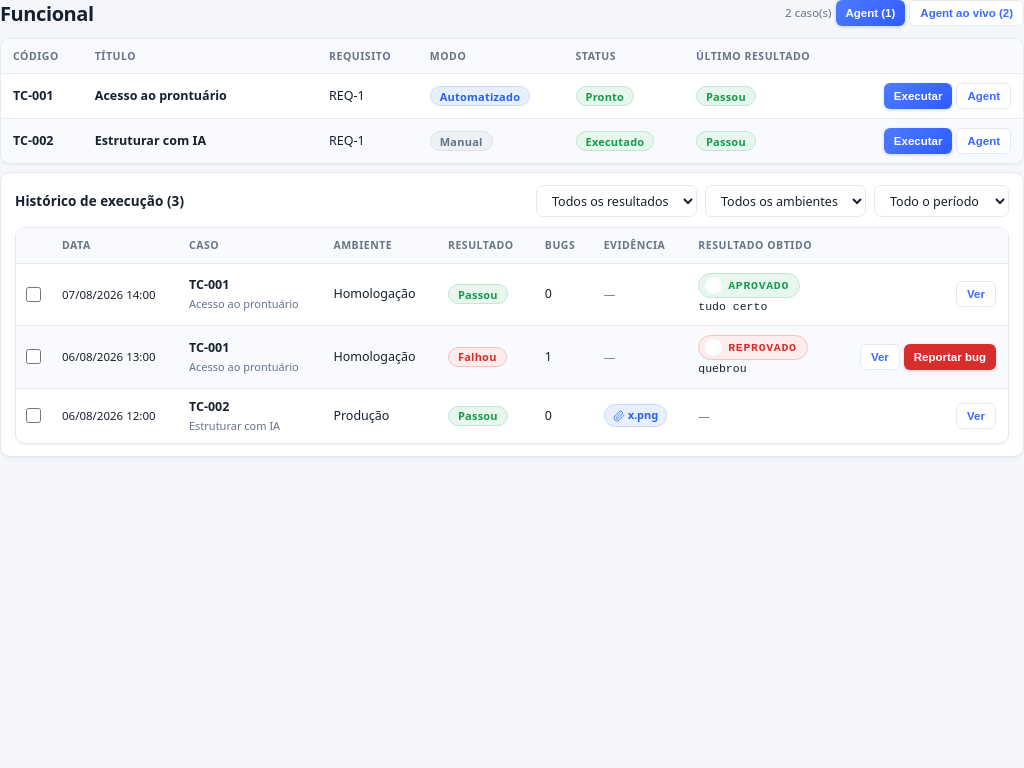
Test: Execution — detalhe da execução › abre o modal Ver com passos executados
What coordinates should you click on to do the following:
click the button "Ver" in the row of "07/08/2026 14:00"
I would click on:
 (976, 294)
Its box is x1=956 y1=281 x2=996 y2=307.
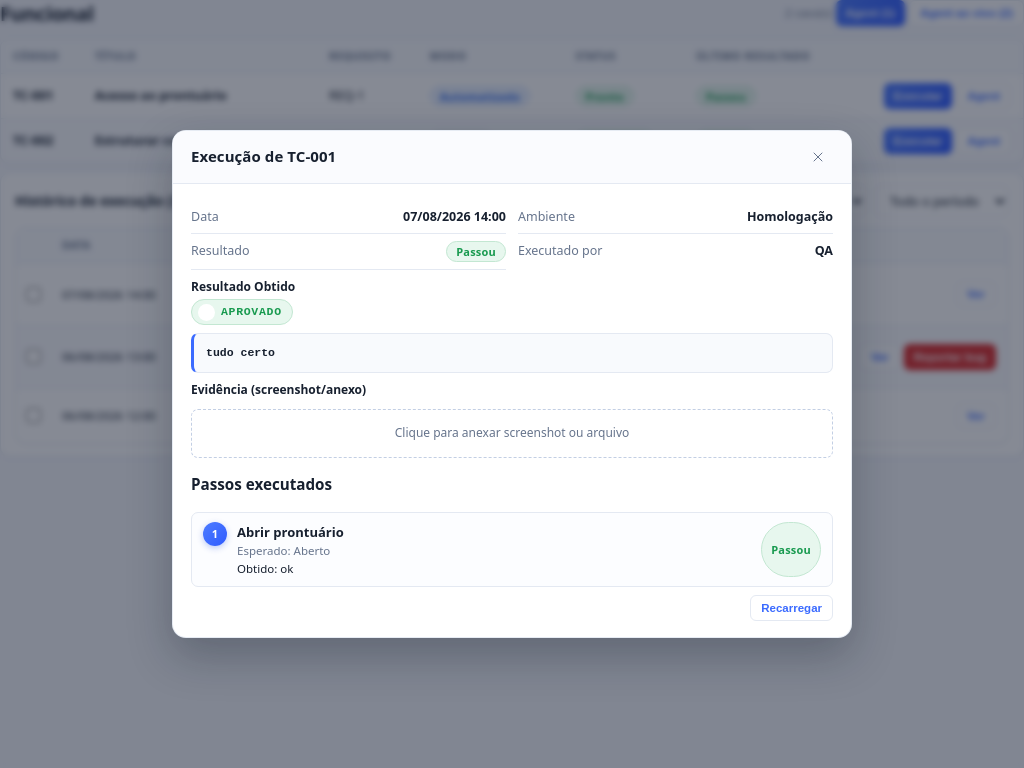
Check: the dialog is shown, box x1=172 y1=130 x2=852 y2=638
Check: the heading "Execução de TC-001" is shown, box x1=191 y1=145 x2=336 y2=168
Check: the text "Abrir prontuário" is shown, box x1=237 y1=523 x2=344 y2=541
